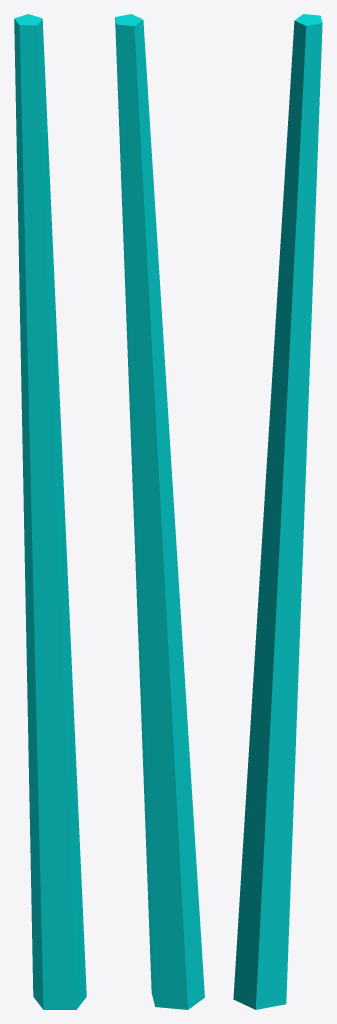
Rendered from SM_Env_Palm_01_Collision.fbx.
3 renders of one model, left to right at view 1: azimuth 90°, elevation 25°; view 2: azimuth 150°, elevation 25°; view 3: azimuth 330°, elevation 25°, orthographic.
Visible parts, largest first — view 1: SM_Env_Palm_01_Collision; view 2: SM_Env_Palm_01_Collision; view 3: SM_Env_Palm_01_Collision.
Part boxes in pixels (bbox=[...]): SM_Env_Palm_01_Collision: bbox=[14, 14, 86, 1009]; SM_Env_Palm_01_Collision: bbox=[115, 14, 204, 1009]; SM_Env_Palm_01_Collision: bbox=[233, 14, 322, 1009].
Size of the model in its own units: 25.59 by 368 by 25.07.
